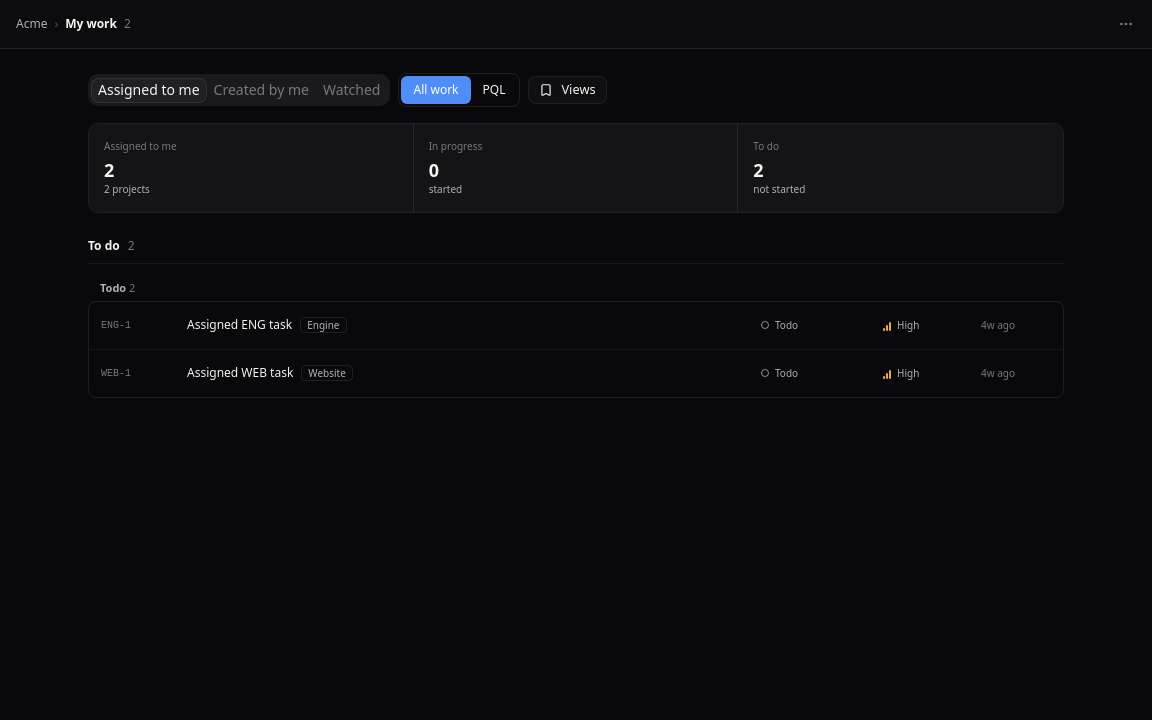
Test: mywork saved view with project PQL (C114T1) › re-applies a view whose PQL contains project = ENG in PQL mode, tab unchanged
This screenshot has width=1152, height=720.
Check: the text "Assigned ENG task" is shown, box [187,316,292,334]
Check: the text "Assigned WEB task" is shown, box [187,364,293,382]
Click the tab "Created by me": click(261, 90) [206,78,316,102]
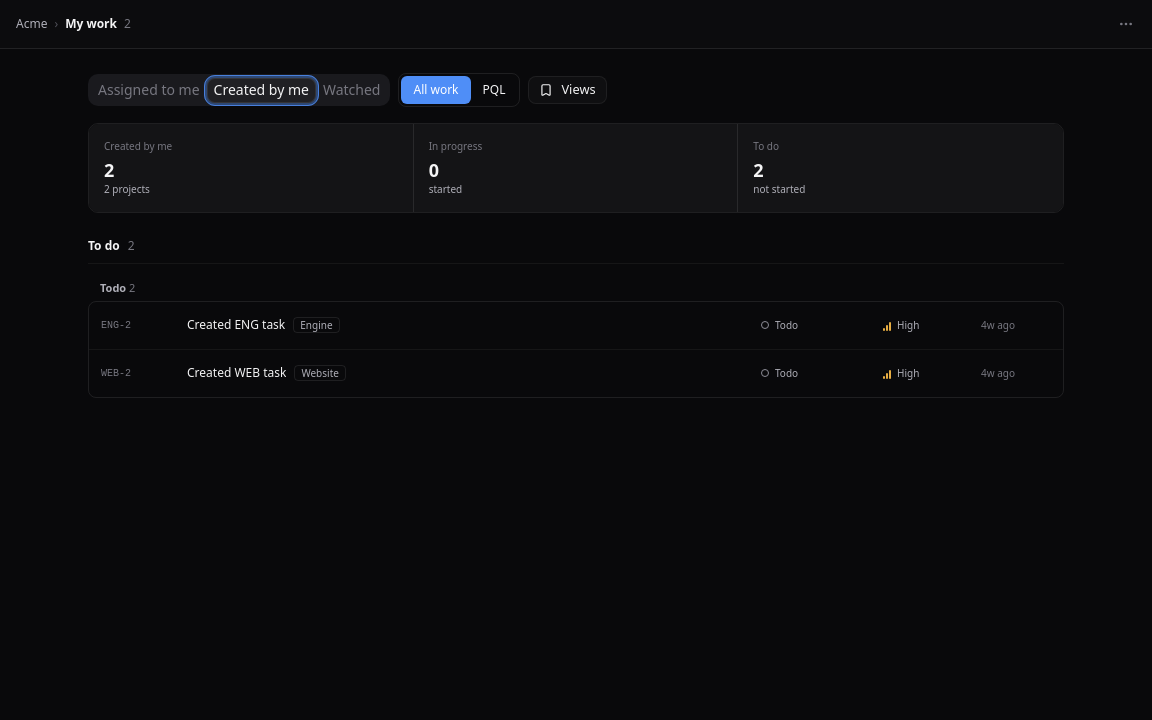
Check: the text "Created ENG task" is shown, box [187,316,285,334]
Check: the text "Created WEB task" is shown, box [187,364,286,382]
Click the button with aria-label "Saved views": click(567, 90) [528,76,606,104]
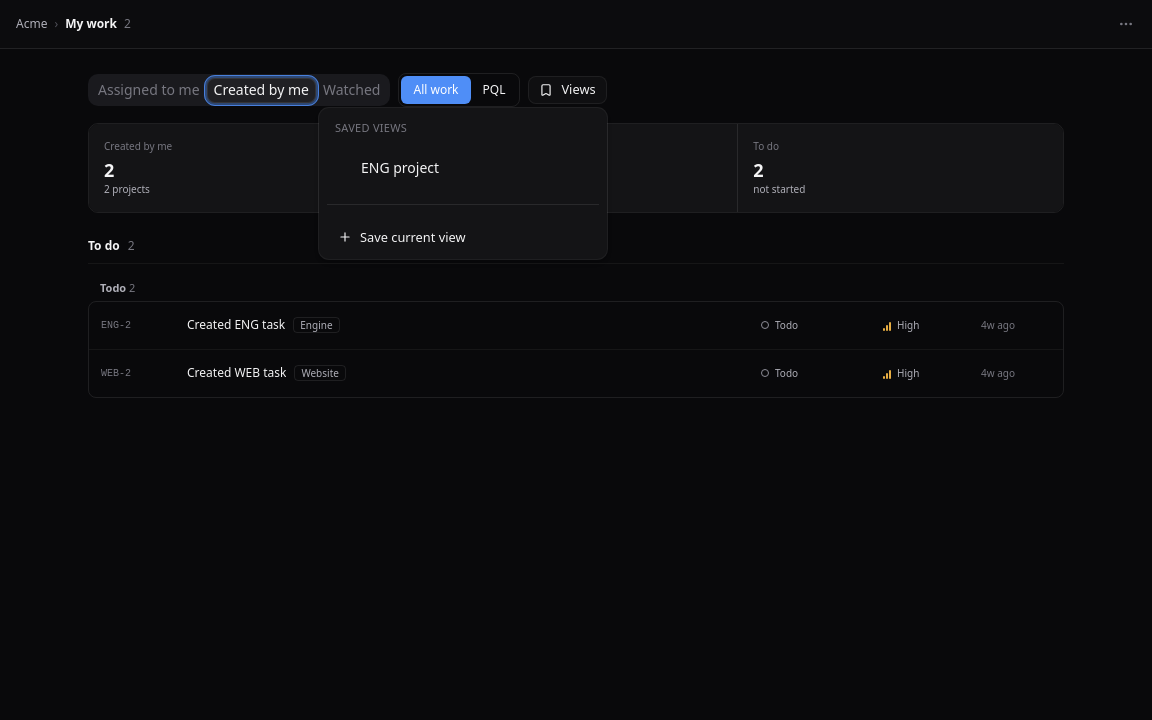
Check: the text "ENG project" is shown, box [361,158,439,178]
Click the button titled "Apply view “ENG project”": click(403, 168) [331,152,475,184]
(page scrolled)
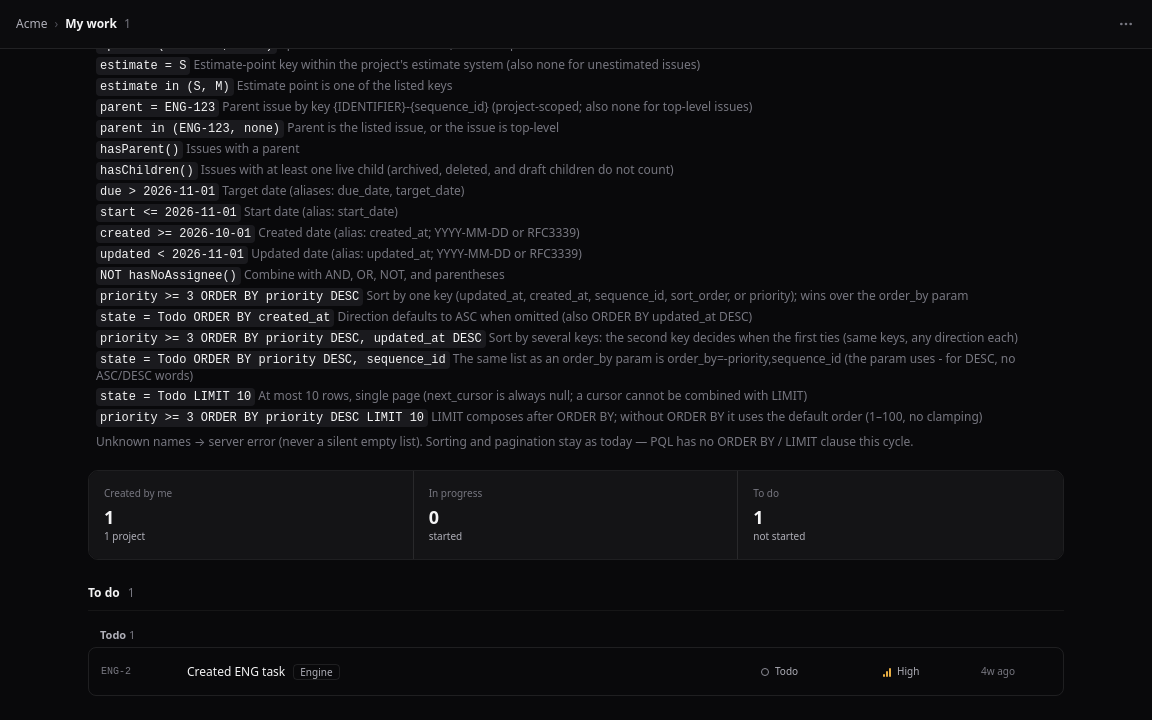
Check: the link "Assigned ENG task" is not shown
Check: the text "Created ENG task" is shown, box [187,662,285,680]
Check: the link "Created WEB task" is gone
